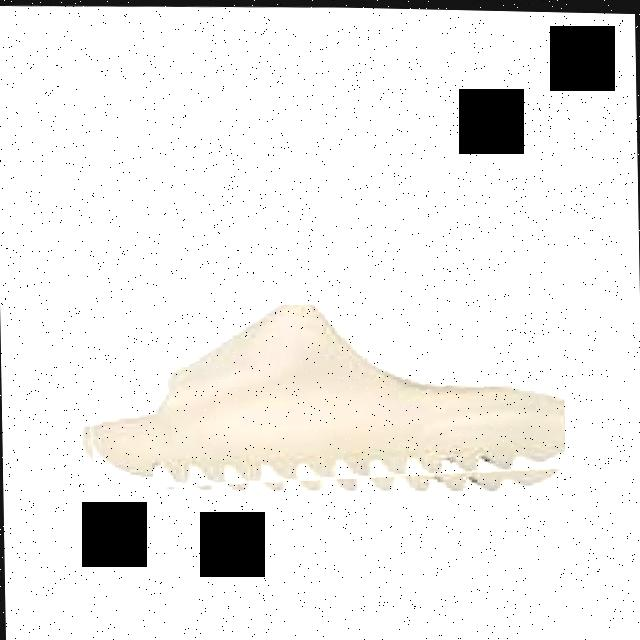shoe: (88, 303, 565, 484)
